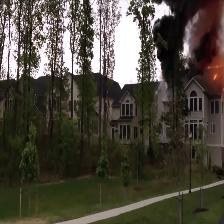smoke: (164, 2, 218, 64)
